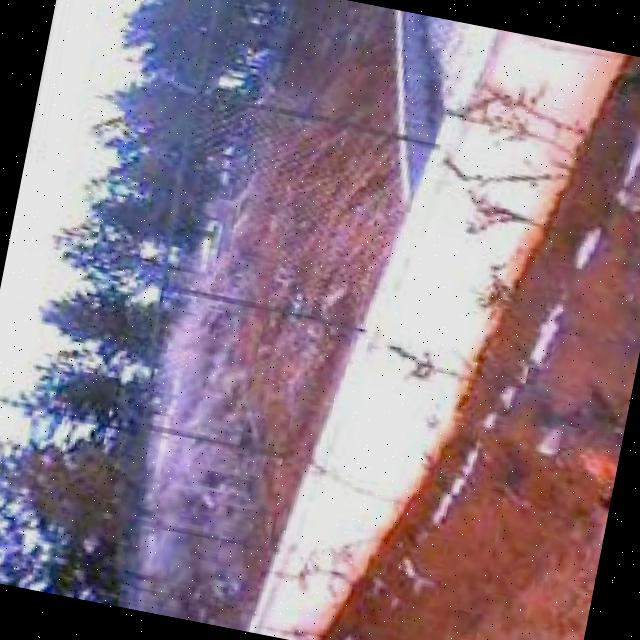fire: (552, 440, 621, 565)
